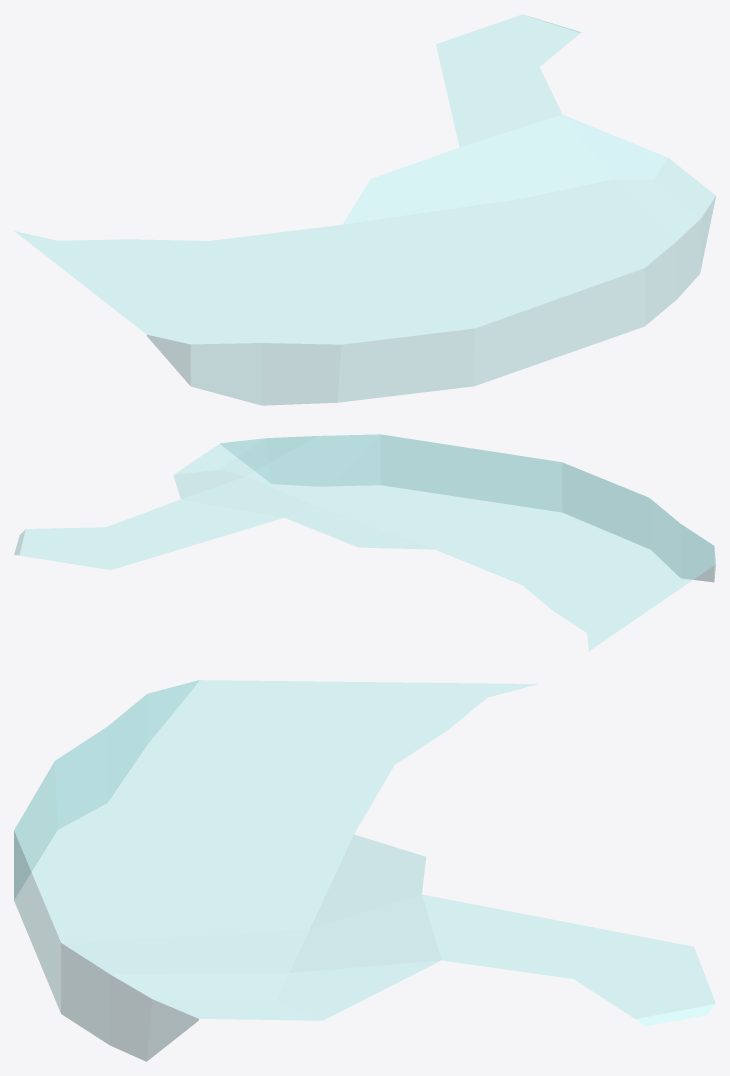
File: Zee laag UV.fbx
3 renders of one model, top to bottom at view 1: azimuth 30°, elevation 25°; view 2: azimuth 150°, elevation 25°; view 3: azimuth 270°, elevation 25°, orthographic. The views are drawn at different scales.
Visible parts, largest first — view 1: Water; view 2: Water; view 3: Water.
Boxes of the visible parts, x1=… form: Water: x1=14, y1=14, x2=715, y2=405; Water: x1=14, y1=434, x2=715, y2=650; Water: x1=14, y1=680, x2=715, y2=1061.
Size of the model in its own units: 14.3 by 1.87 by 11.56.
